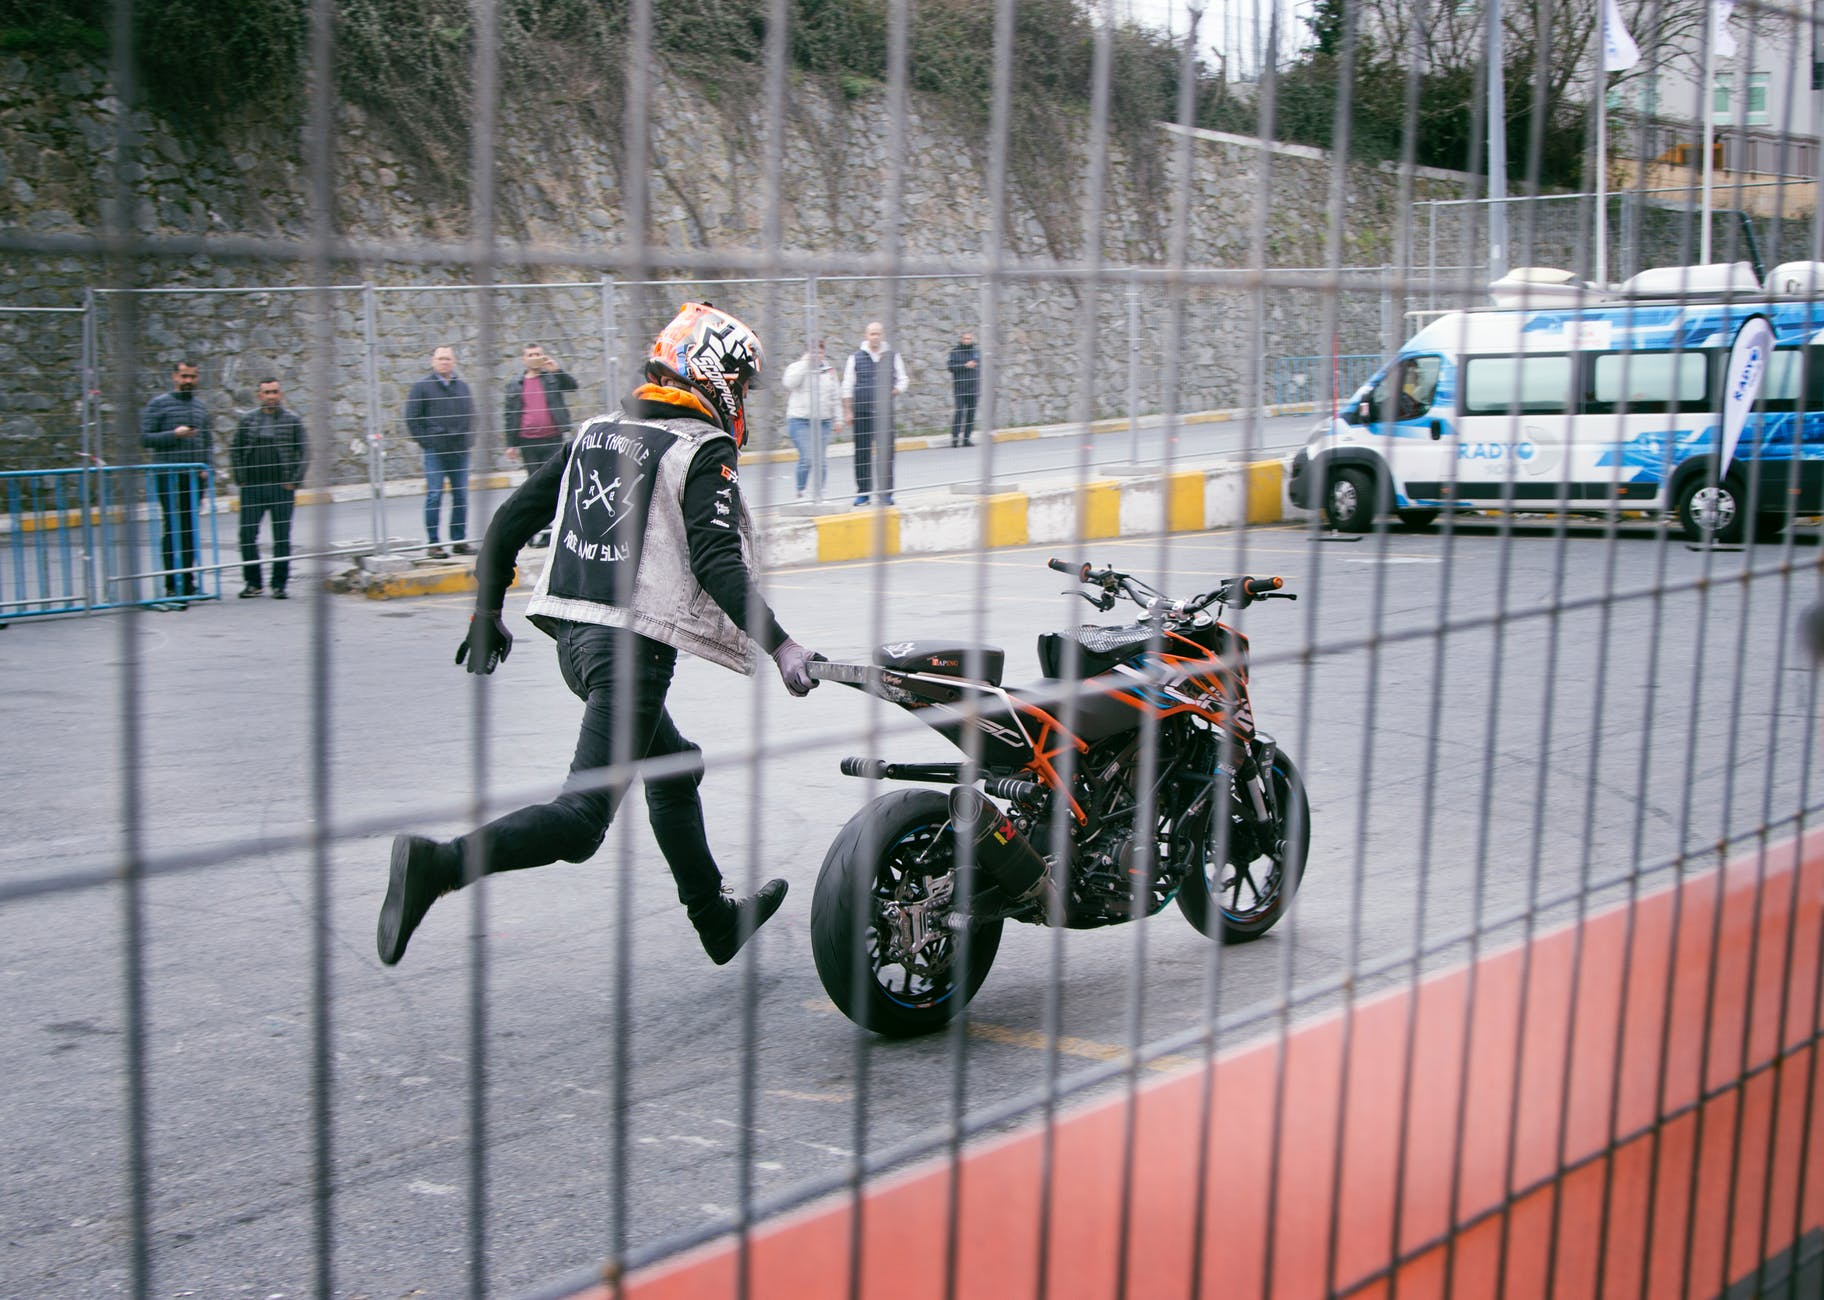helmet: (646, 295, 751, 421)
